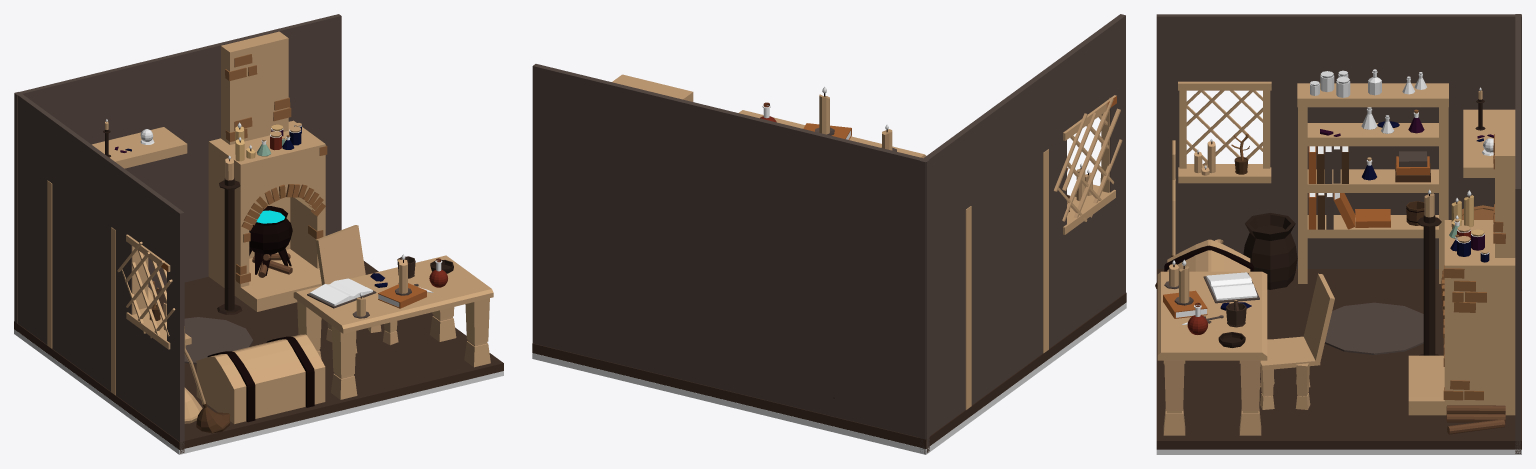
File: witch_house_Mattia 1.fbx
3 views of the same model, side by side, from view 1: azimuth 30°, elevation 25°; view 2: azimuth 150°, elevation 25°; view 3: azimuth 270°, elevation 25° (orthographic). The views are drawn at different scales.
Visible parts, largest first — view 1: wall, wall2, Floor2, chimney, chimney2, top_table, Leg_table, Base, top, Floor, Cube.010, rug (+13 smaller); view 2: wall2, wall, Floor2, Floor, sash.001, Shelfs1, Shelfs, sill, chimney2, sash; view 3: wall, Floor2, chimney, top_table, rug, Pot, Leg_table, Shelfs2, Shelfs3, wall2, chimney2, shelf (+30 smaller).
Part boxes in pixels (<box>): wall: <box>15,92,184,453</box>; wall2: <box>14,14,341,323</box>; Floor2: <box>14,261,503,449</box>; chimney: <box>208,120,325,311</box>; chimney2: <box>221,31,288,144</box>; top_table: <box>293,255,493,333</box>; Leg_table: <box>297,298,490,399</box>; Base: <box>196,363,325,424</box>; top: <box>196,334,325,389</box>; Floor: <box>14,329,503,454</box>; Cube.010: <box>315,225,365,285</box>; rug: <box>184,317,253,364</box>; wall2: <box>532,64,929,453</box>; wall: <box>919,14,1125,453</box>; Floor2: <box>532,292,1126,448</box>; Floor: <box>532,302,1126,454</box>; sash.001: <box>1054,98,1122,221</box>; Shelfs1: <box>965,206,971,409</box>; Shelfs: <box>1043,149,1048,353</box>; sill: <box>1063,184,1115,234</box>; chimney2: <box>612,74,693,101</box>; sash: <box>1058,115,1113,221</box>; wall: <box>1156,14,1521,268</box>; Floor2: <box>1156,269,1521,449</box>; chimney: <box>1408,220,1515,415</box>; top_table: <box>1157,271,1267,360</box>; rug: <box>1324,302,1423,354</box>; Pot: <box>1243,213,1297,289</box>; Leg_table: <box>1163,360,1261,435</box>; Shelfs2: <box>1297,83,1448,107</box>; Shelfs3: <box>1307,123,1438,146</box>; wall2: <box>1515,14,1520,453</box>; chimney2: <box>1495,124,1515,257</box>; shelf: <box>1463,109,1515,177</box>.
Size of the model in its own units: 694 by 487 by 608.
